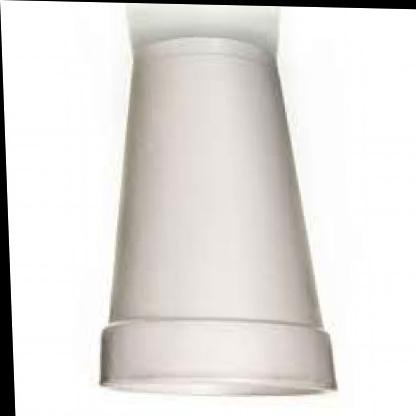trash: (101, 37, 334, 394)
